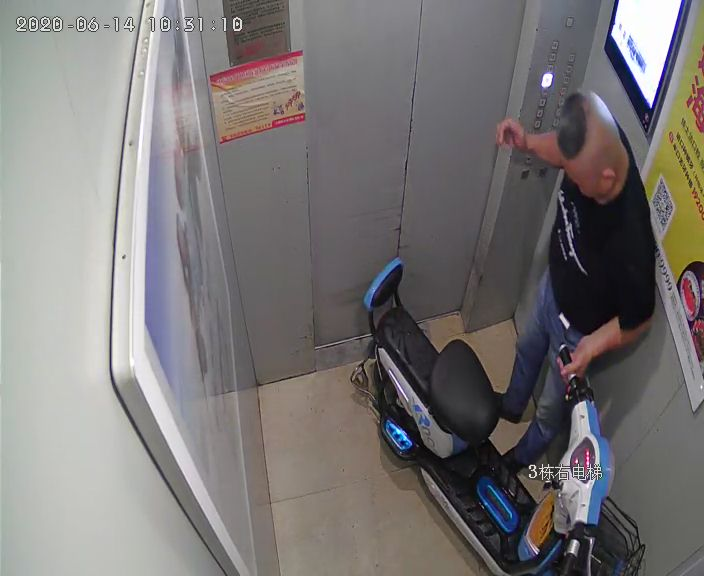Electric-bicycle: (362, 257, 647, 574)
